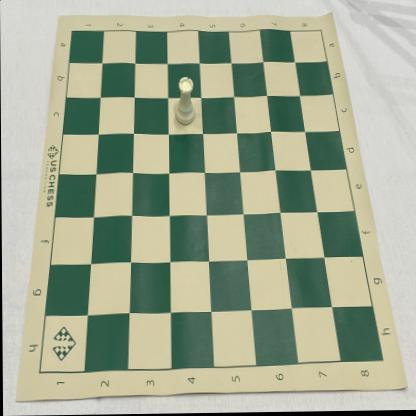white-rook: (174, 77, 196, 127)
